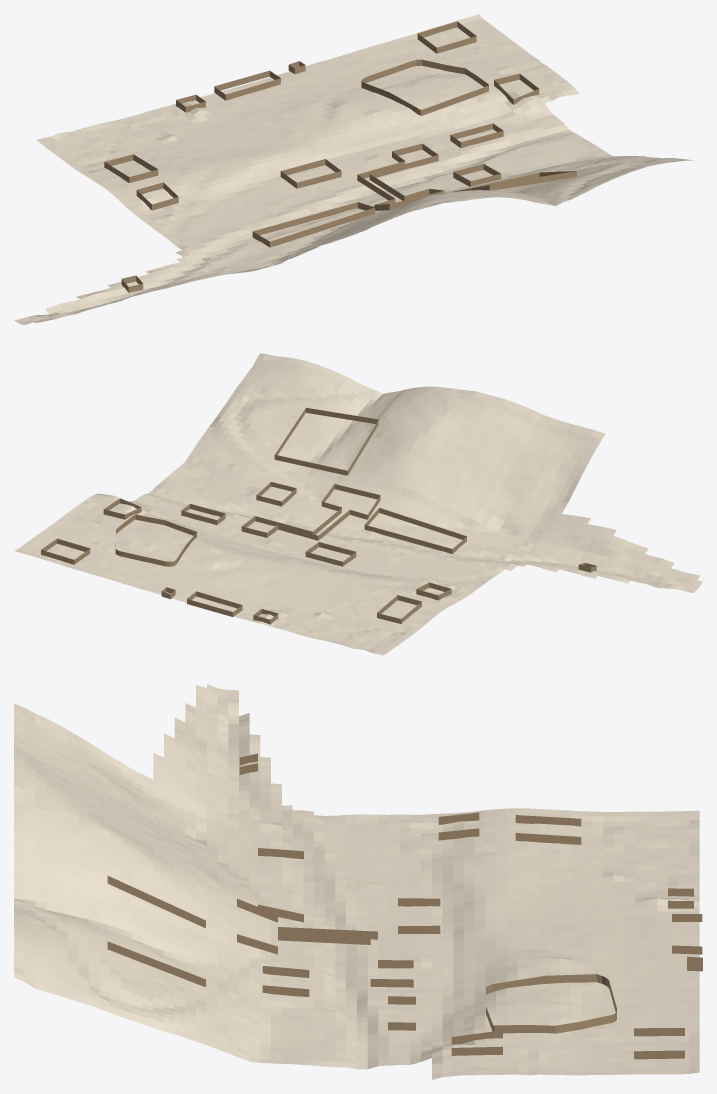
The picture shows the model from 3 angles, top to bottom: view 1: azimuth 30°, elevation 25°; view 2: azimuth 150°, elevation 25°; view 3: azimuth 270°, elevation 25°; orthographic projection. The views are drawn at different scales.
Parts seen in each view (by area): view 1: dirt, timber; view 2: dirt, timber; view 3: dirt, timber.
Boxes of the visible parts, left/top/right/bottom form: dirt: left=14, top=14, right=694, bottom=324; timber: left=104, top=21, right=576, bottom=292; dirt: left=14, top=353, right=702, bottom=655; timber: left=41, top=407, right=596, bottom=624; dirt: left=14, top=684, right=699, bottom=1079; timber: left=107, top=753, right=702, bottom=1059.
Bounding box in the file's own units: 273 × 40.06 × 193.
